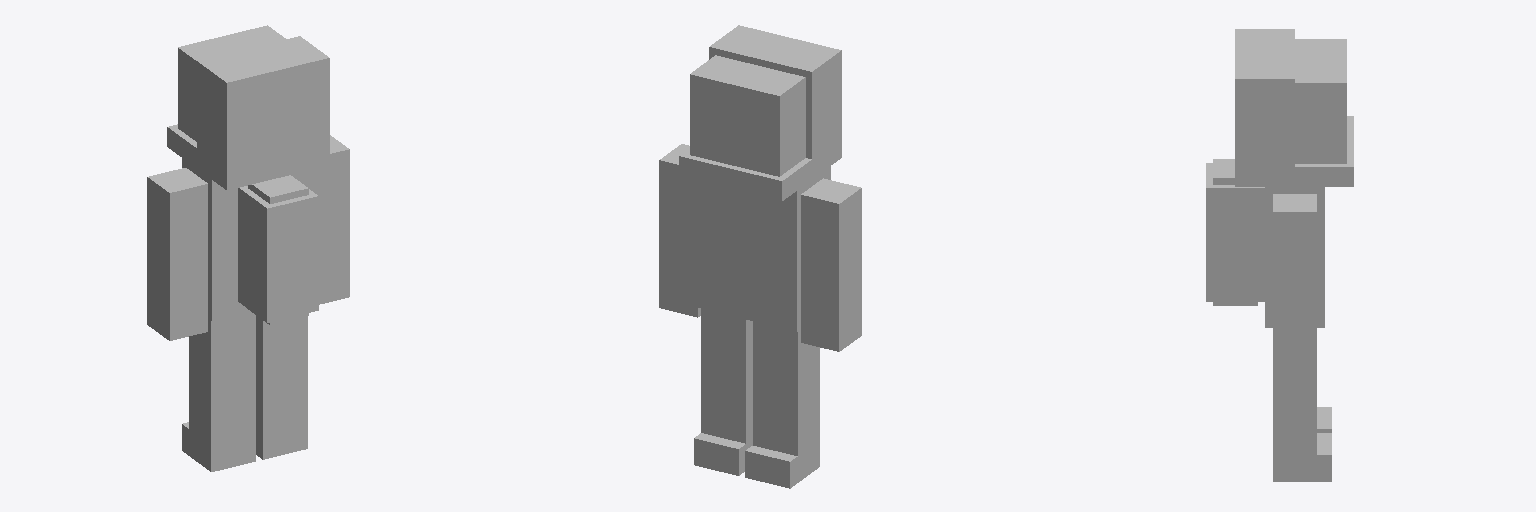
The model's file is Astronaut.obj.
3 renders of one model, left to right at view 1: azimuth 30°, elevation 25°; view 2: azimuth 150°, elevation 25°; view 3: azimuth 270°, elevation 25°, orthographic.
Visible parts, largest first — view 1: Astronatut; view 2: Astronatut; view 3: Astronatut.
Part boxes in pixels (x1,y1,x2,y2): Astronatut: (147, 25, 349, 471); Astronatut: (659, 25, 861, 488); Astronatut: (1206, 29, 1353, 481).
Size of the model in its own units: 0.875 by 1.88 by 0.625.